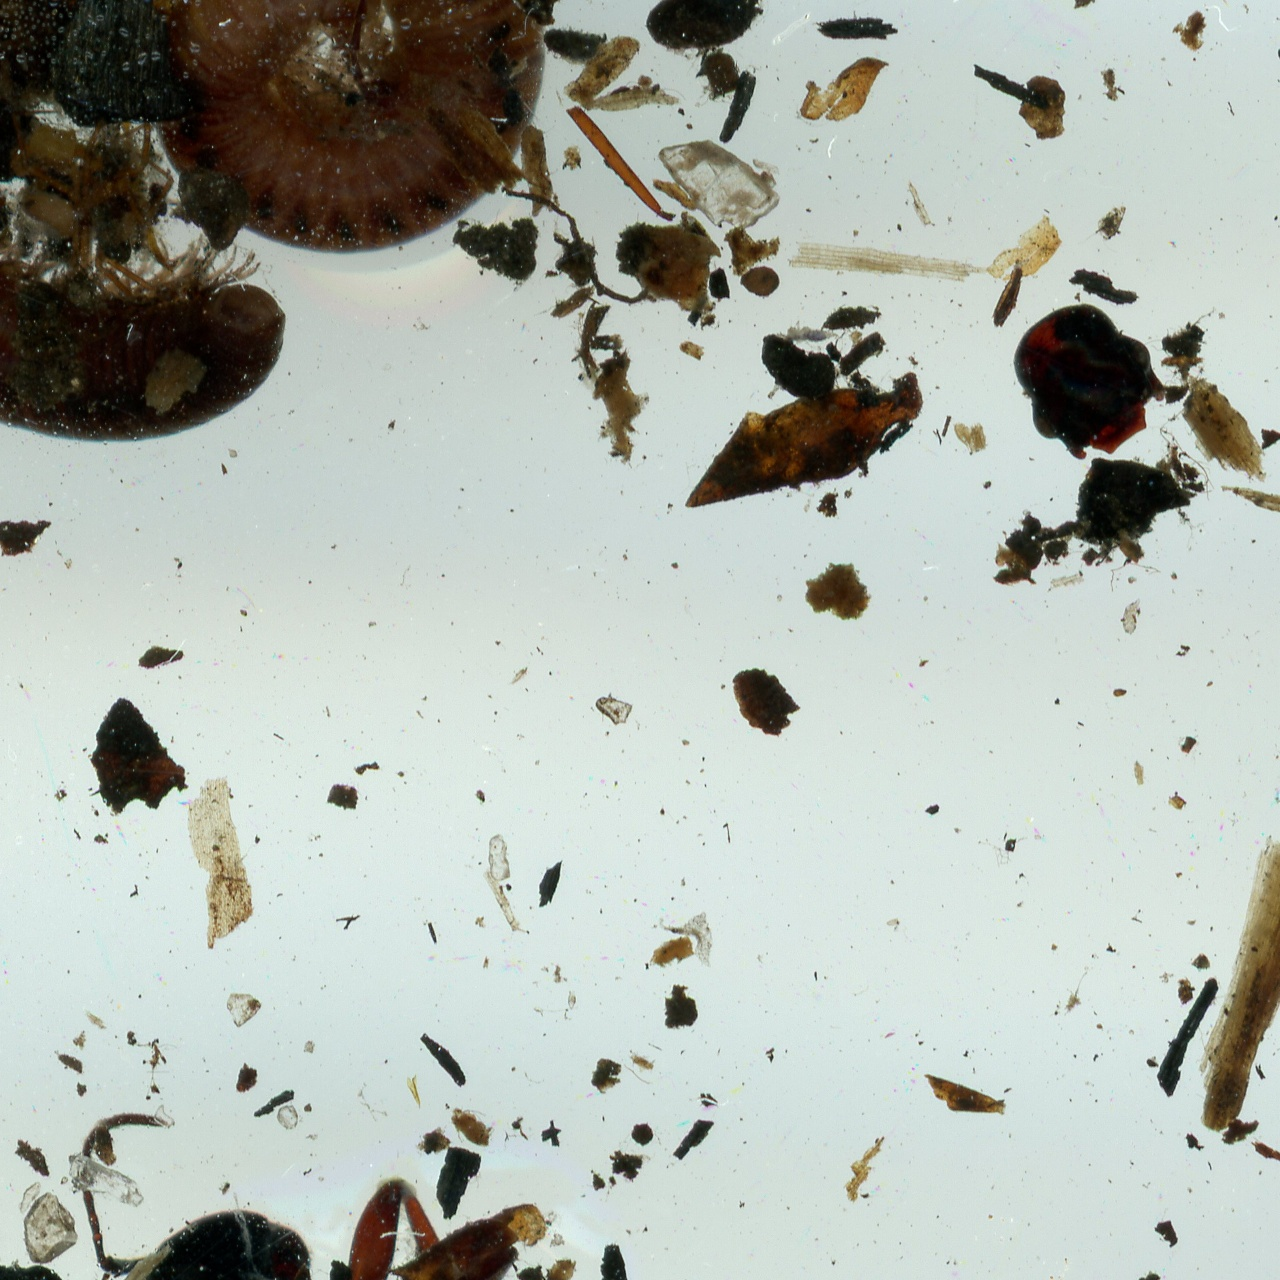arthropod: (0, 0, 546, 446), (75, 1110, 630, 1280), (447, 1102, 499, 1150)
